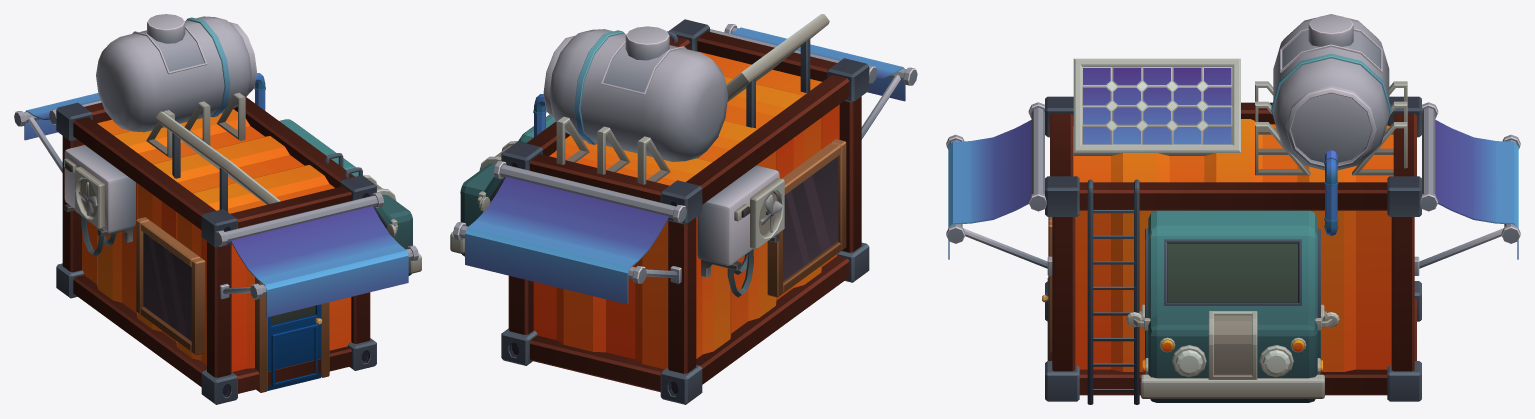
Rendered from sp_prebuild_house_15.fbx.
3 views of the same model, side by side, from view 1: azimuth 30°, elevation 25°; view 2: azimuth 150°, elevation 25°; view 3: azimuth 270°, elevation 25° (orthographic). The views are drawn at different scales.
Visible parts, largest first — view 1: finb_house_15; view 2: finb_house_15; view 3: finb_house_15.
Part boxes in pixels (x1,y1,x2,y2): finb_house_15: [14, 14, 421, 404]; finb_house_15: [450, 14, 917, 404]; finb_house_15: [946, 14, 1520, 404].
Size of the model in its own units: 492 by 478 by 761.
